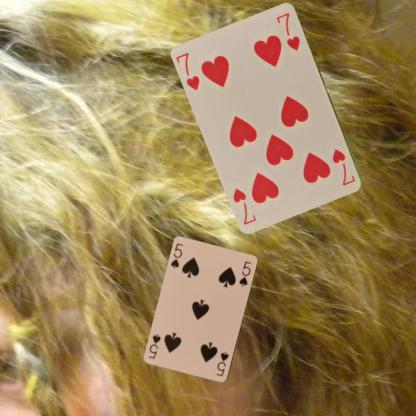5s: (214, 349, 230, 378), (168, 241, 184, 270)
7h: (174, 50, 202, 92), (330, 146, 357, 187)
